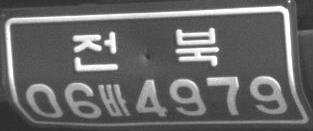0: (24, 83, 64, 119)
4: (135, 79, 167, 117)
6: (65, 82, 102, 118)
7: (206, 76, 240, 115)
9: (248, 74, 288, 114), (168, 78, 206, 116)
바: (102, 83, 131, 117)
전북_D: (72, 27, 219, 71)
